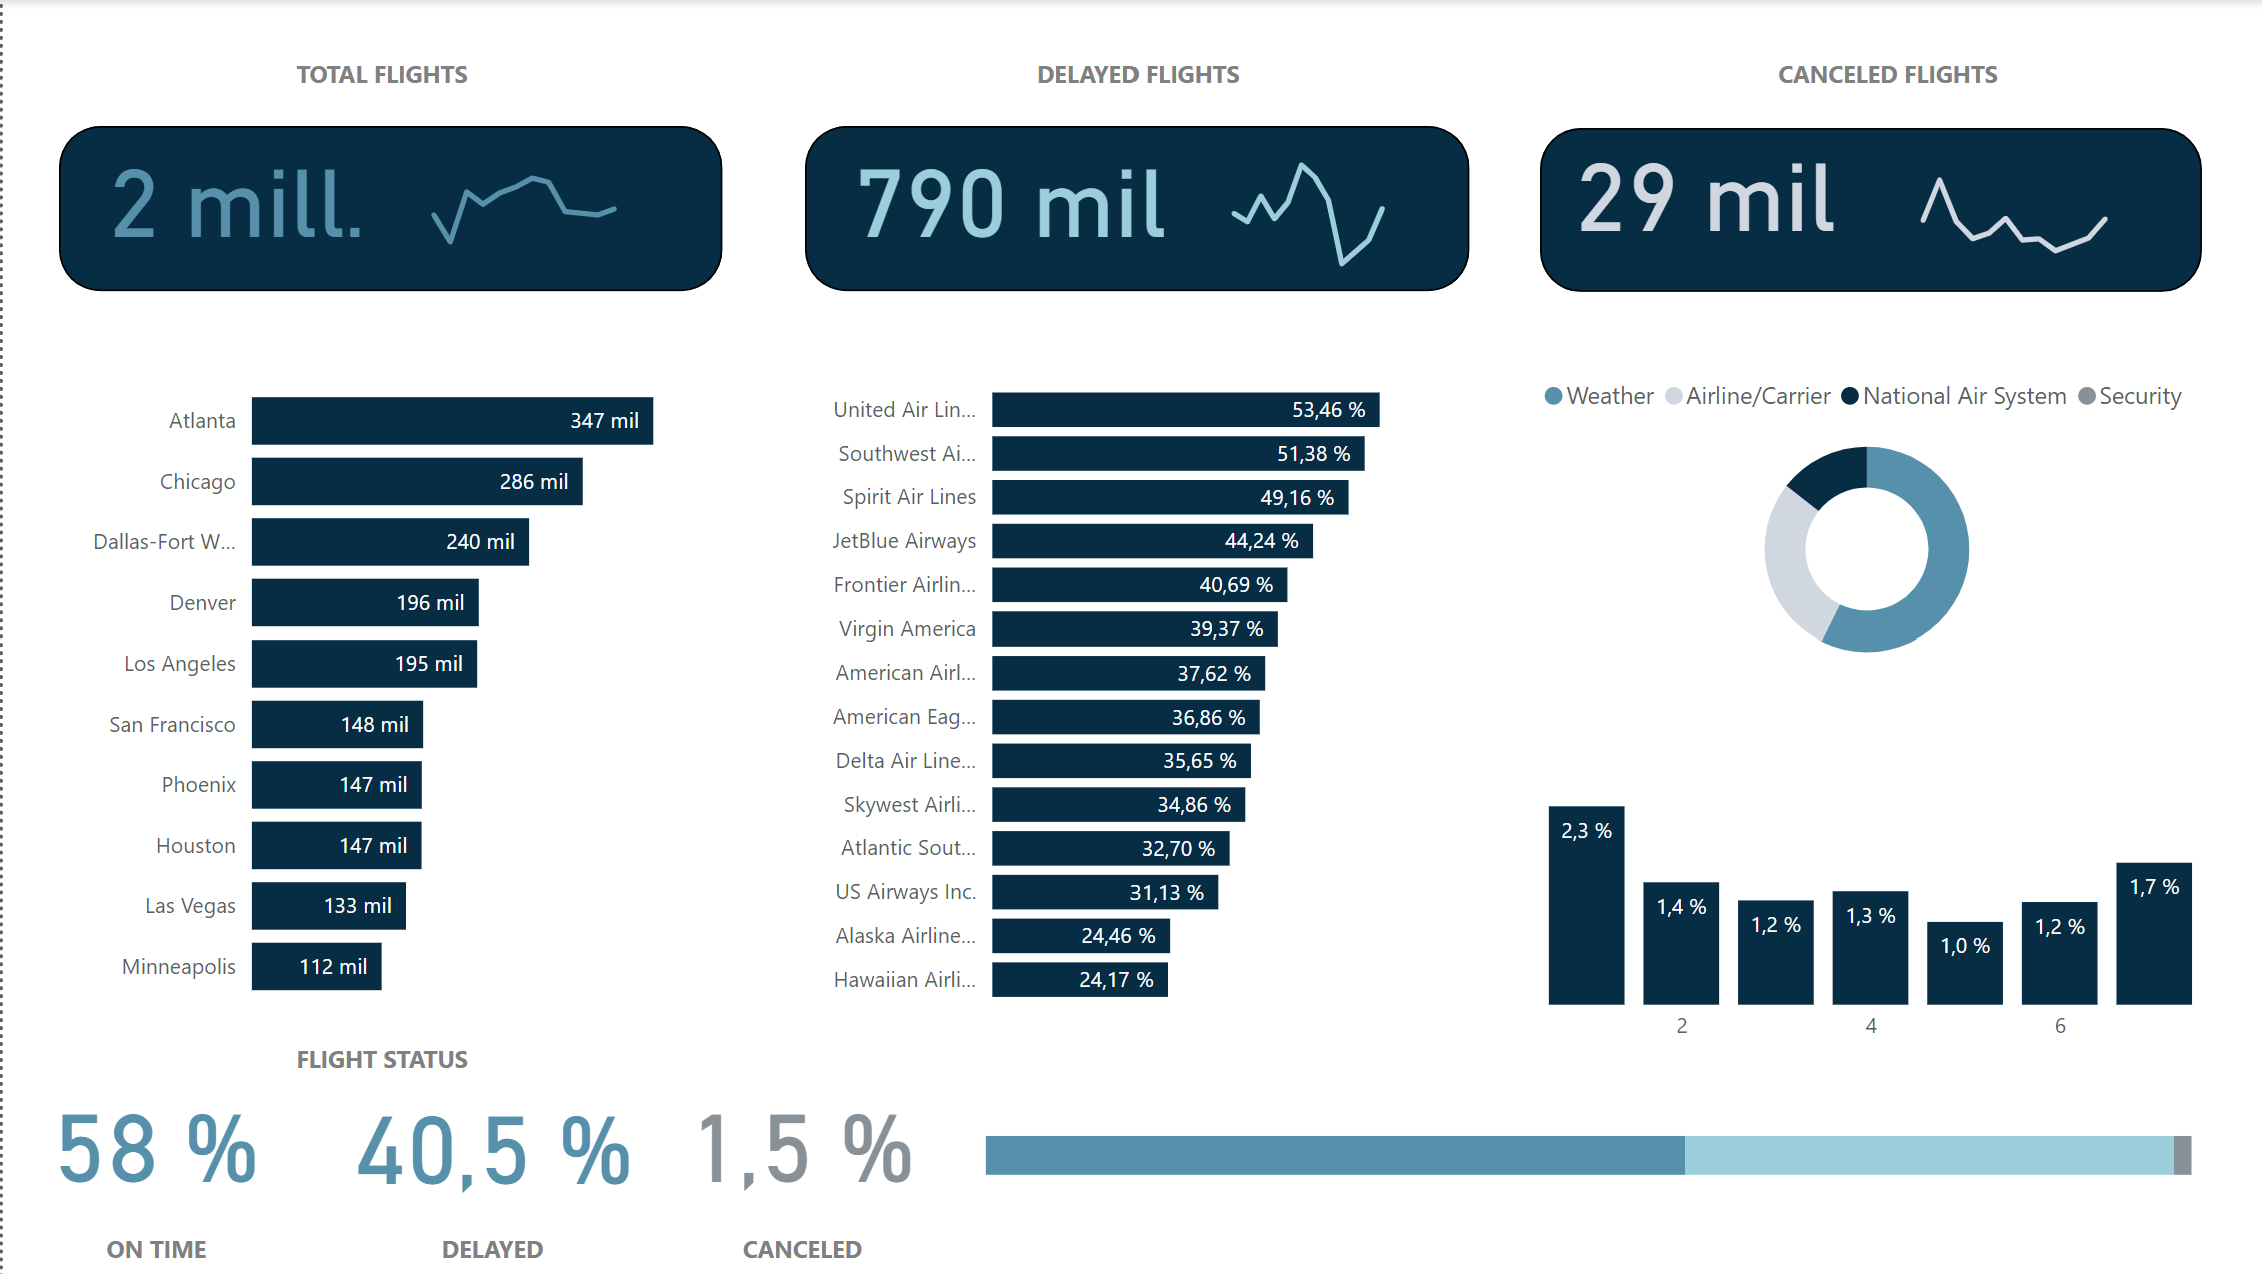

What the dashboard file says about the page in this screenshot:
{"tool":"powerbi","page":{"name":"Flight Status Dashboard","canvas":[1280,720],"ordinal":0},"visuals":[{"type":"shape","box":[453.2,71.4,374.9,93.4],"z":0},{"type":"shape","box":[31.6,71.4,374.9,93.4],"z":1000},{"type":"shape","box":[868.1,72.3,374.1,92.7],"z":2000},{"type":"shape","box":[31.6,197.8,375.3,378.6],"z":3000},{"type":"textbox","box":[151.5,27.1,125.5,29.4],"z":9000},{"type":"textbox","box":[991.3,27.1,146.9,29.4],"z":10000},{"type":"textbox","box":[539.7,27.5,201.9,28.8],"z":11000},{"type":"textbox","box":[151.5,583.2,125.5,29.4],"z":12000},{"type":"card","fields":{"Values":["flights.Total Flights"]},"box":[48.1,85.2,166.2,67.3],"z":13000},{"type":"lineChart","fields":{"Y":["flights.Total Flights"],"Category":["flights.MONTH"]},"box":[219.7,76.9,168.9,82.4],"z":14000},{"type":"card","fields":{"Values":["flights.Delayed Flights"]},"box":[475.2,85.2,188.2,67.3],"z":14001},{"type":"lineChart","fields":{"Category":["flights.MONTH"],"Y":["flights.Delayed Flights"]},"box":[673,76.9,144.2,81],"z":14002},{"type":"card","fields":{"Values":["flights.Canceled Flights"]},"box":[879,79.7,164.8,72.8],"z":14003},{"type":"lineChart","fields":{"Category":["flights.MONTH"],"Y":["flights.Canceled Flights"]},"box":[1060.3,76.9,170.3,75.5],"z":14004},{"type":"card","fields":{"Values":["flights.% On-Time"]},"box":[0,612.5,171.7,71.4],"z":14005},{"type":"card","fields":{"Values":["flights.% Delayed"]},"box":[171.7,613.9,211.5,71.4],"z":14006},{"type":"card","fields":{"Values":["flights.% Canceled"]},"box":[379.1,612.5,145.6,71.4],"z":14007},{"type":"clusteredBarChart","fields":{"Category":["airports.CITY"],"Y":["flights.Total Flights"]},"box":[31.6,197.8,385.9,380.4],"z":14008},{"type":"clusteredBarChart","fields":{"Category":["airlines.AIRLINE"],"Y":["flights.% Delayed"]},"box":[451.8,199.1,376.3,379.1],"z":14009},{"type":"donutChart","fields":{"Category":["cancellation_codes.CANCELLATION_DESCRIPTION"],"Y":["flights.Canceled Flights"]},"box":[865.2,203.3,376.3,184],"z":14010},{"type":"clusteredColumnChart","fields":{"Category":["flights.DAY_OF_WEEK"],"Y":["flights.% Canceled"]},"box":[868,416.1,373.6,181.3],"z":14011},{"type":"hundredPercentStackedBarChart","fields":{"Y":["flights.Total Flights"],"Series":["flights.Status"]},"box":[550.7,598.8,690.8,100.3],"z":14012},{"type":"textbox","box":[233.5,690.8,85.2,28.8],"z":14013},{"type":"textbox","box":[43.9,690.8,85.2,28.8],"z":14014},{"type":"textbox","box":[409.3,690.8,85.2,28.8],"z":14015},{"type":"textbox","box":[43.9,690.8,85.2,28.8],"z":14016}]}

Visuals, with their boxes in screenshot pixels (x1, y1, x2, y2), scaled from the page's 1280x720 canvas onto the 2262x1274 screenshot:
shape: <box>801,126,1463,292</box>
shape: <box>56,126,718,292</box>
shape: <box>1534,128,2195,292</box>
shape: <box>56,350,719,1020</box>
textbox: <box>268,48,490,100</box>
textbox: <box>1752,48,2011,100</box>
textbox: <box>954,49,1311,100</box>
textbox: <box>268,1032,490,1084</box>
card - flights.Total Flights: <box>85,151,379,270</box>
lineChart - flights.Total Flights x flights.MONTH: <box>388,136,687,282</box>
card - flights.Delayed Flights: <box>840,151,1172,270</box>
lineChart - flights.MONTH x flights.Delayed Flights: <box>1189,136,1444,279</box>
card - flights.Canceled Flights: <box>1553,141,1845,270</box>
lineChart - flights.MONTH x flights.Canceled Flights: <box>1874,136,2175,270</box>
card - flights.% On-Time: <box>0,1084,303,1210</box>
card - flights.% Delayed: <box>303,1086,677,1213</box>
card - flights.% Canceled: <box>670,1084,927,1210</box>
clusteredBarChart - airports.CITY x flights.Total Flights: <box>56,350,738,1023</box>
clusteredBarChart - airlines.AIRLINE x flights.% Delayed: <box>798,352,1463,1023</box>
donutChart - cancellation_codes.CANCELLATION_DESCRIPTION x flights.Canceled Flights: <box>1529,360,2194,685</box>
clusteredColumnChart - flights.DAY_OF_WEEK x flights.% Canceled: <box>1534,736,2194,1057</box>
hundredPercentStackedBarChart - flights.Total Flights x flights.Status: <box>973,1060,2194,1237</box>
textbox: <box>413,1222,563,1273</box>
textbox: <box>78,1222,228,1273</box>
textbox: <box>723,1222,874,1273</box>
textbox: <box>78,1222,228,1273</box>
